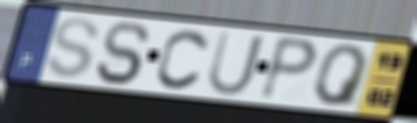C: (154, 26, 213, 92)
P: (256, 33, 322, 104)
Q: (312, 43, 371, 109)
S: (93, 20, 154, 87), (44, 15, 103, 81)
U: (205, 29, 267, 98)
